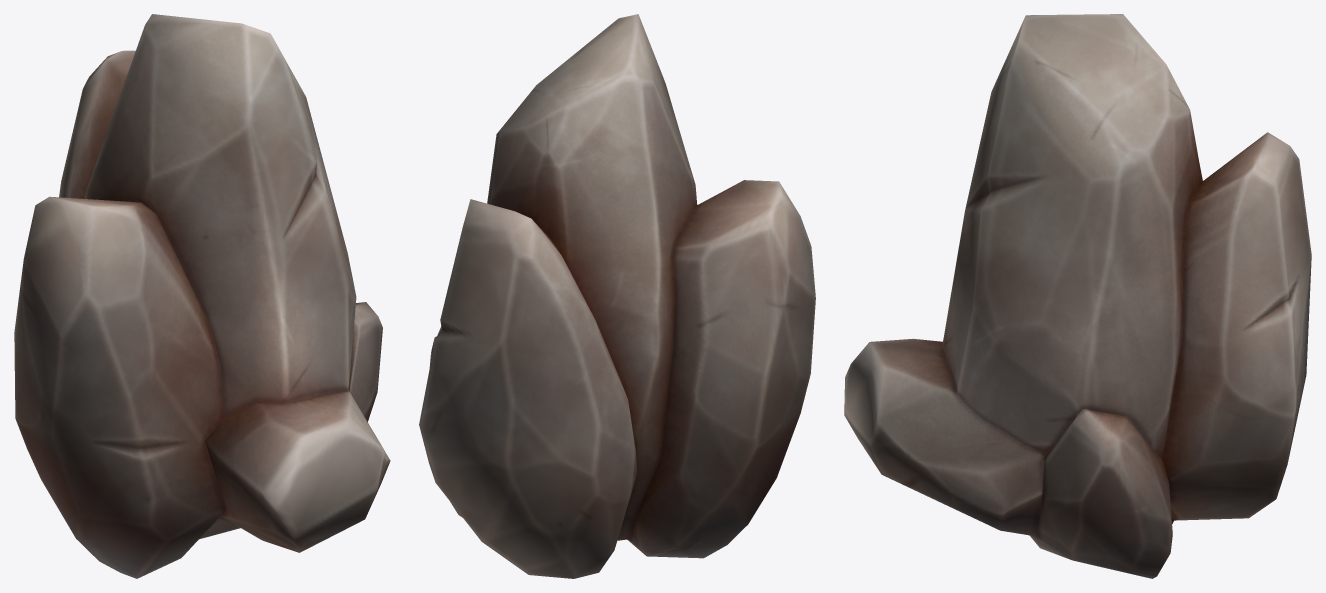
File: SM_Gem_Iron_004.fbx
3 renders of one model, left to right at view 1: azimuth 30°, elevation 25°; view 2: azimuth 150°, elevation 25°; view 3: azimuth 270°, elevation 25°, orthographic. The views are drawn at different scales.
Parts seen in each view (by area): view 1: SM_Gem_Iron_004; view 2: SM_Gem_Iron_004; view 3: SM_Gem_Iron_004.
Boxes of the visible parts, left/top/right/bottom form: SM_Gem_Iron_004: left=14, top=14, right=390, bottom=578; SM_Gem_Iron_004: left=419, top=14, right=815, bottom=578; SM_Gem_Iron_004: left=844, top=14, right=1311, bottom=578.
Bounding box in the file's own units: 49.86 × 69.68 × 56.23.
